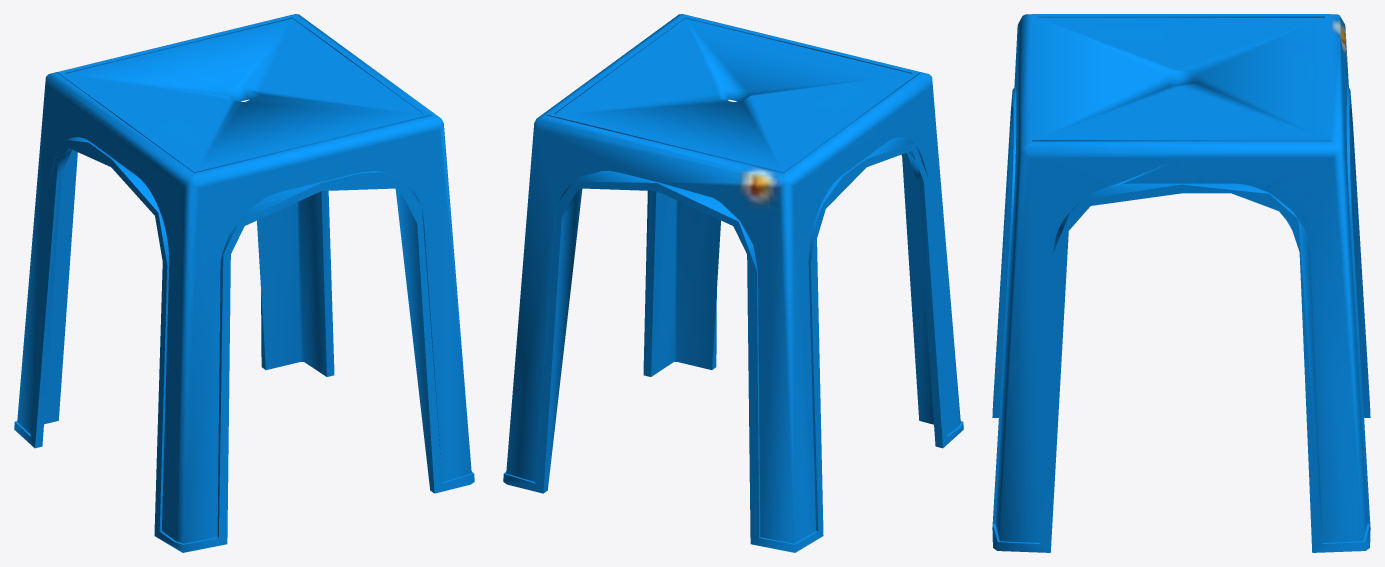
The model's file is ghe-xanh.glb.
The picture shows the model from 3 angles, left to right: view 1: azimuth 30°, elevation 25°; view 2: azimuth 150°, elevation 25°; view 3: azimuth 270°, elevation 25°; orthographic projection. The views are drawn at different scales.
Visible parts, largest first — view 1: g; view 2: g; view 3: g.
Boxes of the visible parts, box(x1,y1,x2,y2) form: g: box(14, 14, 474, 552); g: box(503, 14, 963, 552); g: box(992, 14, 1370, 552).
Bounding box in the file's own units: 0.8655 × 1 × 0.8655.
1 material, 1 textured.
